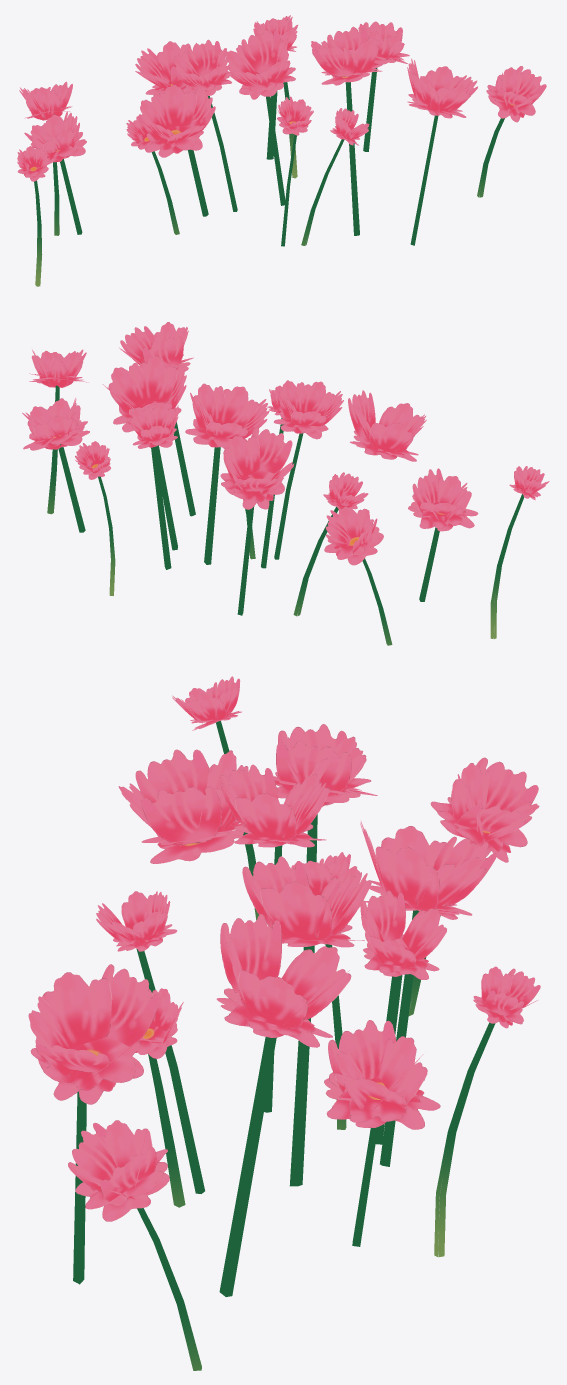
Rendered from SM_detail_flowers_C_LOD0.FBX.
3 renders of one model, top to bottom at view 1: azimuth 30°, elevation 25°; view 2: azimuth 150°, elevation 25°; view 3: azimuth 270°, elevation 25°, orthographic. The views are drawn at different scales.
Size of the model in its own units: 82.4 by 33.29 by 40.49.
1 material, 1 textured.
